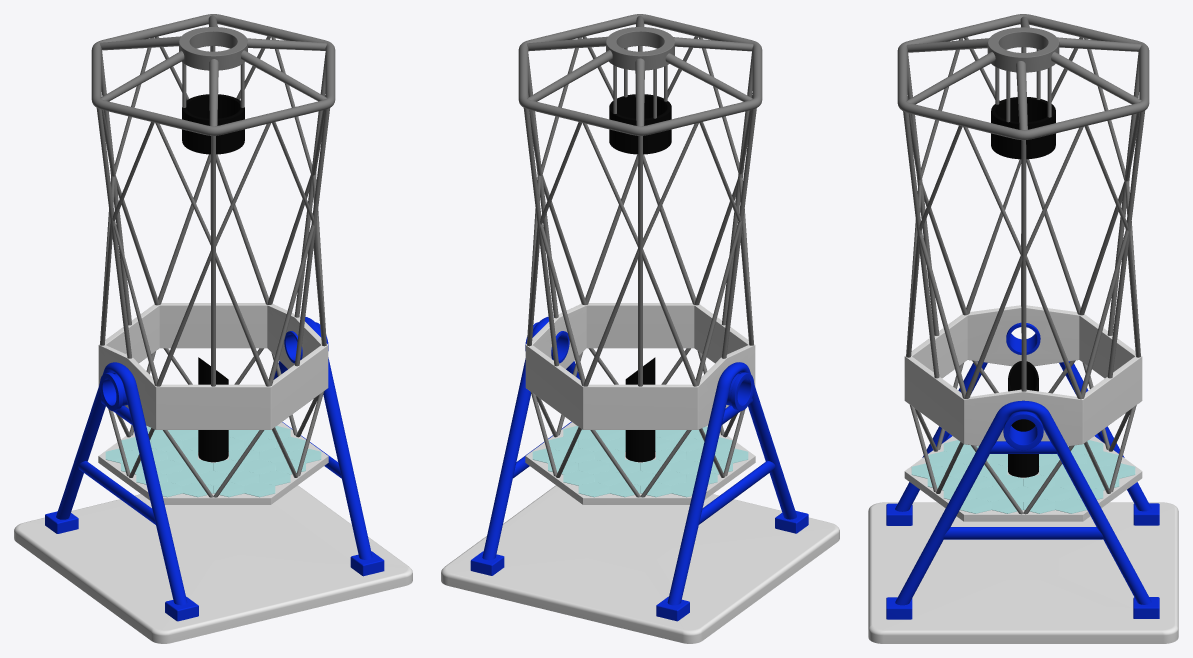
Rendered from Keck_Telescope_rotateAxis1_UV_done.fbx.
3 views of the same model, side by side, from view 1: azimuth 30°, elevation 25°; view 2: azimuth 150°, elevation 25°; view 3: azimuth 270°, elevation 25° (orthographic). The views are drawn at different scales.
Parts seen in each view (by area): view 1: Foundation, Elevation_Ring_UV, Legs1 (×2), Spider_Frame, Primary_Mirror, Secondary_M_Bottom, Secondary_M_Top, Shell, Leg_5, Leg_3, Leg_4, Armature2 (+22 smaller); view 2: Foundation, Elevation_Ring_UV, Legs1 (×2), Spider_Frame, Primary_Mirror, Secondary_M_Bottom, Secondary_M_Top, Shell, Leg_1, Leg_3, Leg_2, Armature2 (+21 smaller); view 3: Foundation, Elevation_Ring_UV, Legs1 (×2), Spider_Frame, Primary_Mirror, Secondary_M_Bottom, Secondary_M_Top, Armature2, Nasmyth (×2), Shell, Leg_6, Leg_1 (+27 smaller).
Part boxes in pixels (x1=…): Foundation: x1=14, y1=485, x2=412, y2=643; Elevation_Ring_UV: x1=98, y1=303, x2=328, y2=429; Legs1 (×2): x1=56, y1=316, x2=372, y2=605; Spider_Frame: x1=91, y1=14, x2=335, y2=135; Primary_Mirror: x1=98, y1=422, x2=328, y2=504; Secondary_M_Bottom: x1=182, y1=94, x2=244, y2=154; Secondary_M_Top: x1=179, y1=27, x2=247, y2=70; Shell: x1=198, y1=357, x2=228, y2=462; Leg_5: x1=295, y1=108, x2=329, y2=366; Leg_3: x1=96, y1=108, x2=132, y2=358; Leg_4: x1=211, y1=136, x2=215, y2=386; Armature2: x1=78, y1=461, x2=155, y2=524; Foundation: x1=441, y1=485, x2=839, y2=643; Elevation_Ring_UV: x1=525, y1=303, x2=755, y2=429; Legs1 (×2): x1=482, y1=316, x2=796, y2=605; Spider_Frame: x1=518, y1=14, x2=762, y2=135; Primary_Mirror: x1=525, y1=422, x2=755, y2=504; Secondary_M_Bottom: x1=609, y1=94, x2=671, y2=154; Secondary_M_Top: x1=606, y1=27, x2=674, y2=70; Shell: x1=625, y1=357, x2=655, y2=462; Leg_1: x1=523, y1=108, x2=558, y2=366; Leg_3: x1=721, y1=108, x2=756, y2=358; Leg_2: x1=638, y1=136, x2=642, y2=386; Armature2: x1=699, y1=460, x2=775, y2=524; Foundation: x1=868, y1=502, x2=1178, y2=643; Elevation_Ring_UV: x1=904, y1=305, x2=1142, y2=446; Legs1 (×2): x1=895, y1=361, x2=1151, y2=605; Spider_Frame: x1=897, y1=14, x2=1149, y2=140; Primary_Mirror: x1=904, y1=436, x2=1142, y2=521; Secondary_M_Bottom: x1=991, y1=97, x2=1055, y2=159; Secondary_M_Top: x1=987, y1=27, x2=1059, y2=72; Armature2: x1=943, y1=527, x2=1103, y2=539; Nasmyth (×2): x1=1003, y1=322, x2=1043, y2=450; Shell: x1=1008, y1=361, x2=1038, y2=477; Leg_6: x1=1021, y1=140, x2=1026, y2=391; Leg_1: x1=1107, y1=110, x2=1145, y2=378.
Bounding box in the file's own units: 13.02 × 24.85 × 13.02.
